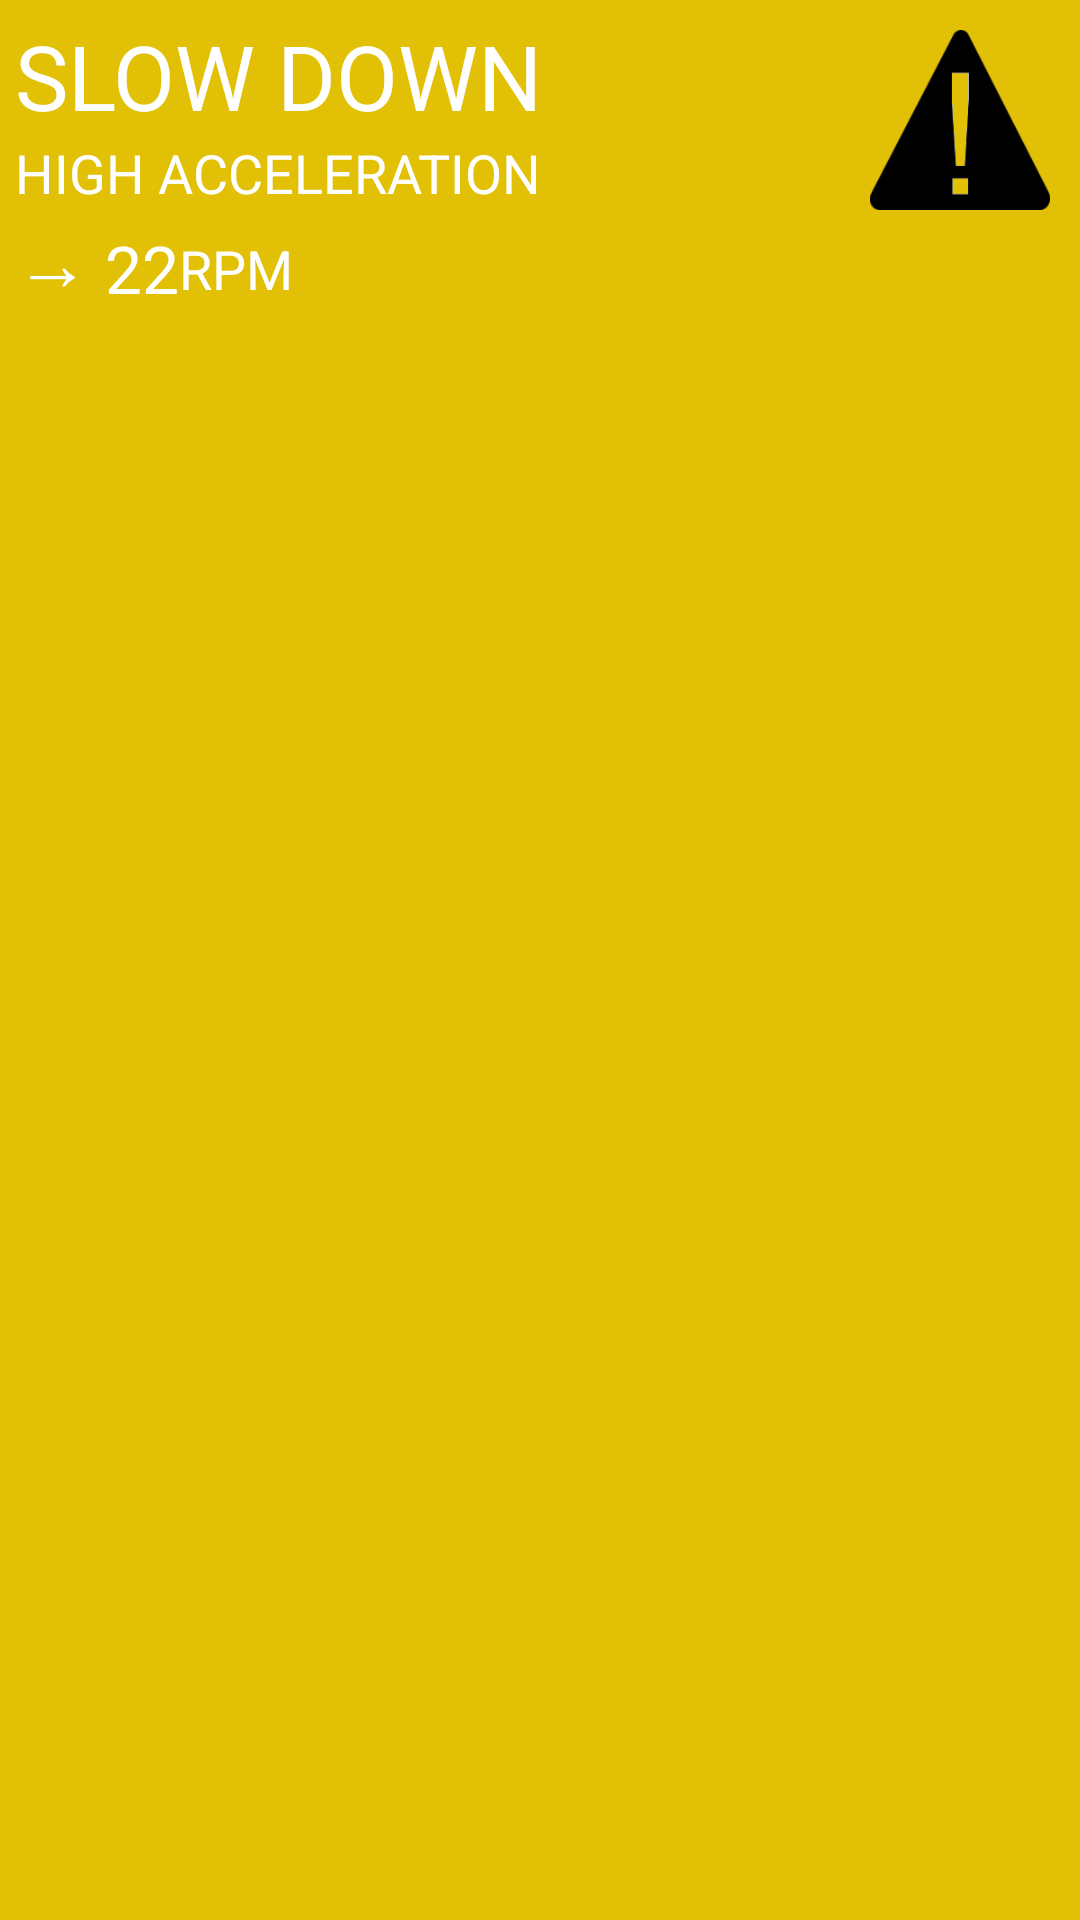

Named icons in this screenshot (1080×1920) and their centers, (x=x, y=y):
alert: (x=960, y=120)
